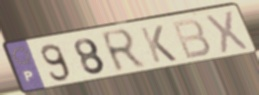8: (74, 37, 107, 76)
9: (40, 42, 72, 82)
B: (169, 17, 213, 62)
K: (138, 23, 179, 64)
R: (98, 27, 150, 76)
X: (203, 8, 250, 55)
